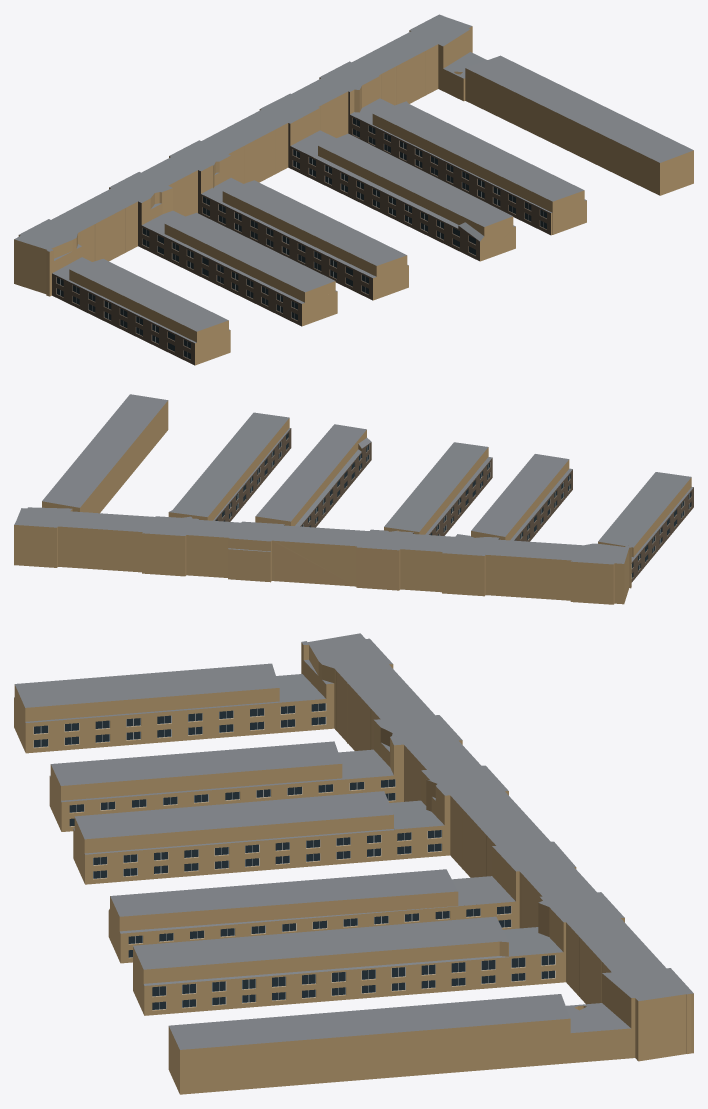
File: recipe-large-buitenzagerij-45-100112.glb
3 renders of one model, top to bottom at view 1: azimuth 30°, elevation 25°; view 2: azimuth 150°, elevation 25°; view 3: azimuth 270°, elevation 25°, orthographic. The views are drawn at different scales.
Parts seen in each view (by area): view 1: buitenzagerij-45-100112; view 2: buitenzagerij-45-100112; view 3: buitenzagerij-45-100112.
Part boxes in pixels (box(x1,y1,x2,y2)): buitenzagerij-45-100112: box(14, 14, 693, 365); buitenzagerij-45-100112: box(14, 394, 693, 604); buitenzagerij-45-100112: box(14, 633, 693, 1094).
Bounding box in the file's own units: 165 × 11.55 × 118.
